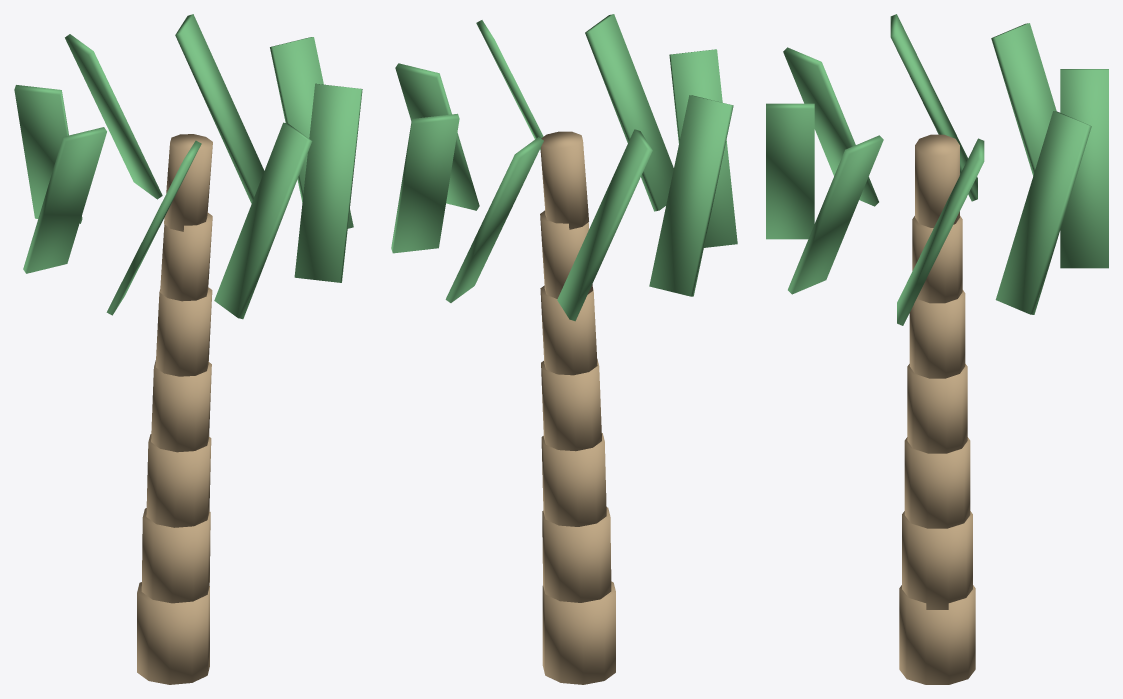
The model's file is palm_tree.glb.
The picture shows the model from 3 angles, left to right: view 1: azimuth 30°, elevation 25°; view 2: azimuth 150°, elevation 25°; view 3: azimuth 270°, elevation 25°; orthographic projection. The views are drawn at different scales.
Parts seen in each view (by area): view 1: Leaf7, Leaf6, Trunk0, Leaf4, Trunk1, Trunk2, Leaf1, Trunk3, Leaf3, Trunk4, Leaf0, Trunk5 (+3 smaller); view 2: Leaf4, Leaf1, Trunk0, Leaf6, Trunk1, Leaf3, Trunk2, Leaf5, Trunk3, Trunk6, Trunk4, Leaf2 (+3 smaller); view 3: Leaf1, Leaf2, Leaf6, Trunk0, Trunk1, Leaf7, Trunk2, Leaf3, Trunk3, Trunk4, Leaf5, Trunk6 (+3 smaller).
Part boxes in pixels (bbox=[...]): Leaf7: bbox=[294, 83, 362, 282]; Leaf6: bbox=[214, 122, 312, 319]; Trunk0: bbox=[137, 582, 209, 684]; Leaf4: bbox=[23, 127, 106, 273]; Trunk1: bbox=[141, 508, 210, 603]; Trunk2: bbox=[146, 434, 211, 527]; Leaf1: bbox=[175, 14, 264, 203]; Trunk3: bbox=[151, 360, 211, 452]; Leaf3: bbox=[14, 85, 82, 223]; Trunk4: bbox=[155, 287, 212, 376]; Leaf0: bbox=[270, 37, 353, 228]; Trunk5: bbox=[160, 212, 212, 301]; Leaf4: bbox=[649, 95, 733, 296]; Leaf1: bbox=[391, 113, 459, 253]; Trunk0: bbox=[542, 581, 615, 684]; Leaf6: bbox=[585, 14, 673, 211]; Trunk1: bbox=[542, 507, 611, 602]; Leaf3: bbox=[557, 129, 652, 321]; Trunk2: bbox=[541, 433, 606, 526]; Leaf5: bbox=[669, 49, 737, 247]; Trunk3: bbox=[541, 359, 601, 451]; Trunk6: bbox=[540, 131, 588, 229]; Trunk4: bbox=[540, 285, 597, 375]; Leaf2: bbox=[445, 137, 543, 302]; Leaf1: bbox=[995, 111, 1091, 314]; Leaf2: bbox=[1060, 69, 1108, 268]; Leaf6: bbox=[766, 103, 814, 239]; Trunk0: bbox=[899, 585, 975, 684]; Trunk1: bbox=[902, 511, 972, 609]; Leaf7: bbox=[788, 135, 883, 294]; Trunk2: bbox=[904, 437, 970, 528]; Leaf3: bbox=[991, 23, 1056, 175]; Trunk3: bbox=[907, 364, 967, 453]; Trunk4: bbox=[909, 290, 965, 378]; Leaf5: bbox=[783, 47, 878, 206]; Trunk6: bbox=[915, 134, 959, 227].
Size of the model in its own units: 1.98 by 3.76 by 1.98.
